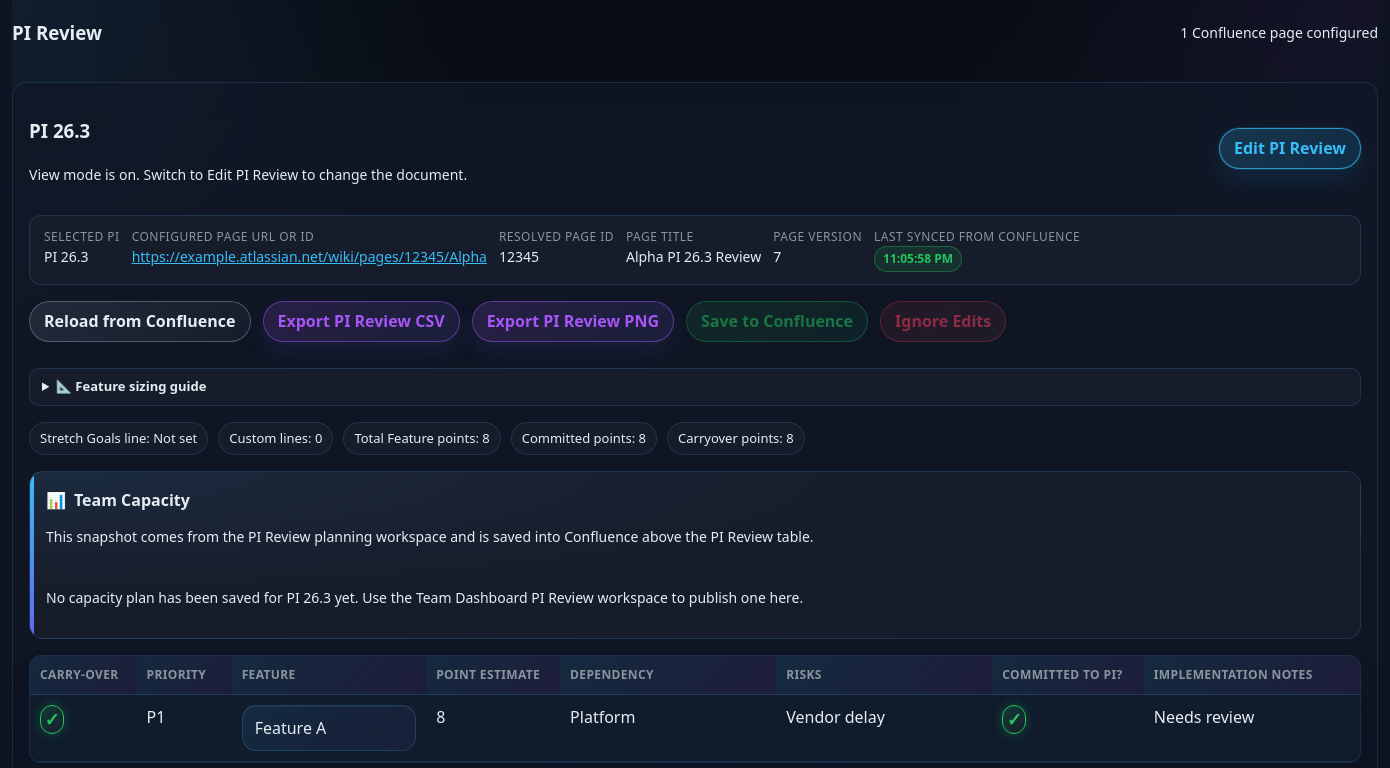
Test: PiReviewTab › pulls Features into the table for the panel team, PI, and roster Product Owner
The image size is (1390, 768).
Click the button "Edit PI Review" at point(1290, 149), box [1219,128,1361,169]
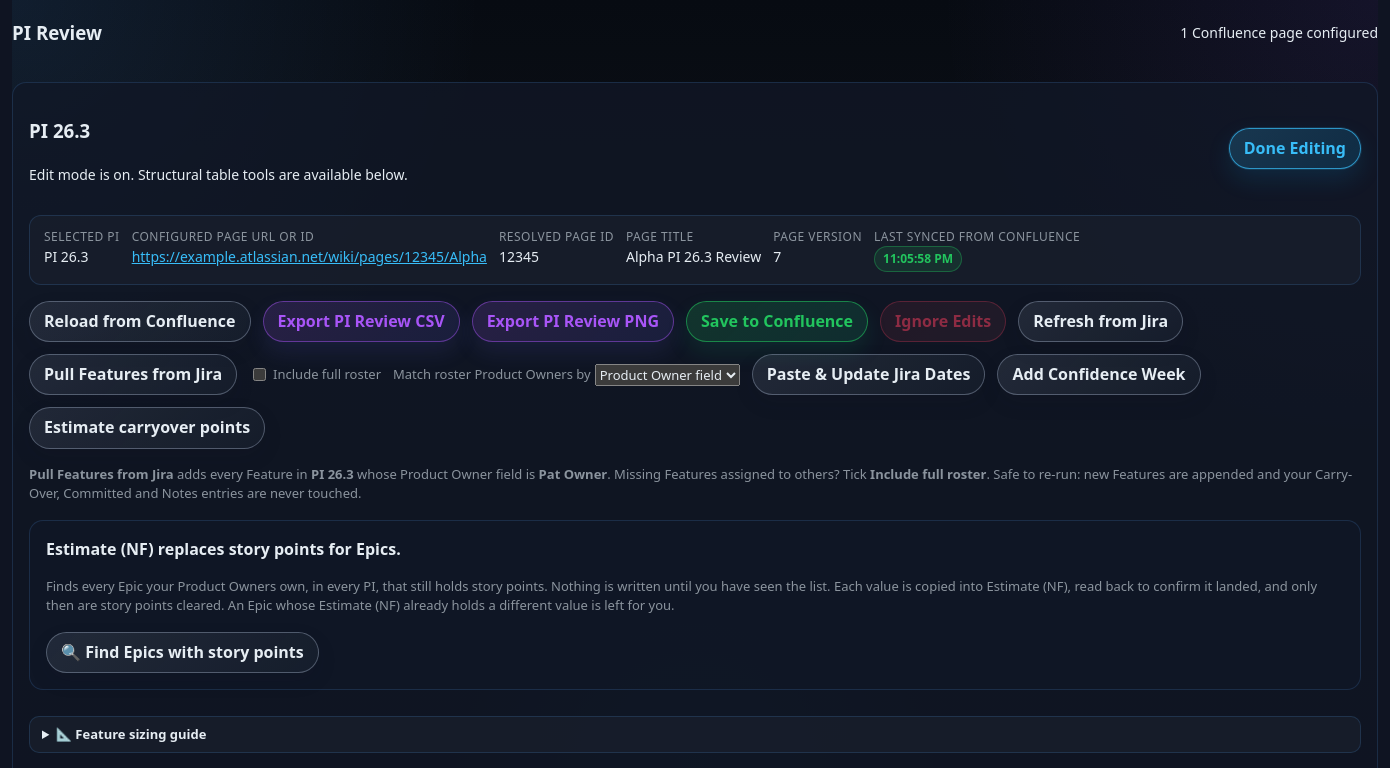
Click the button "Pull Features from Jira" at point(133, 375), box [29,354,237,395]
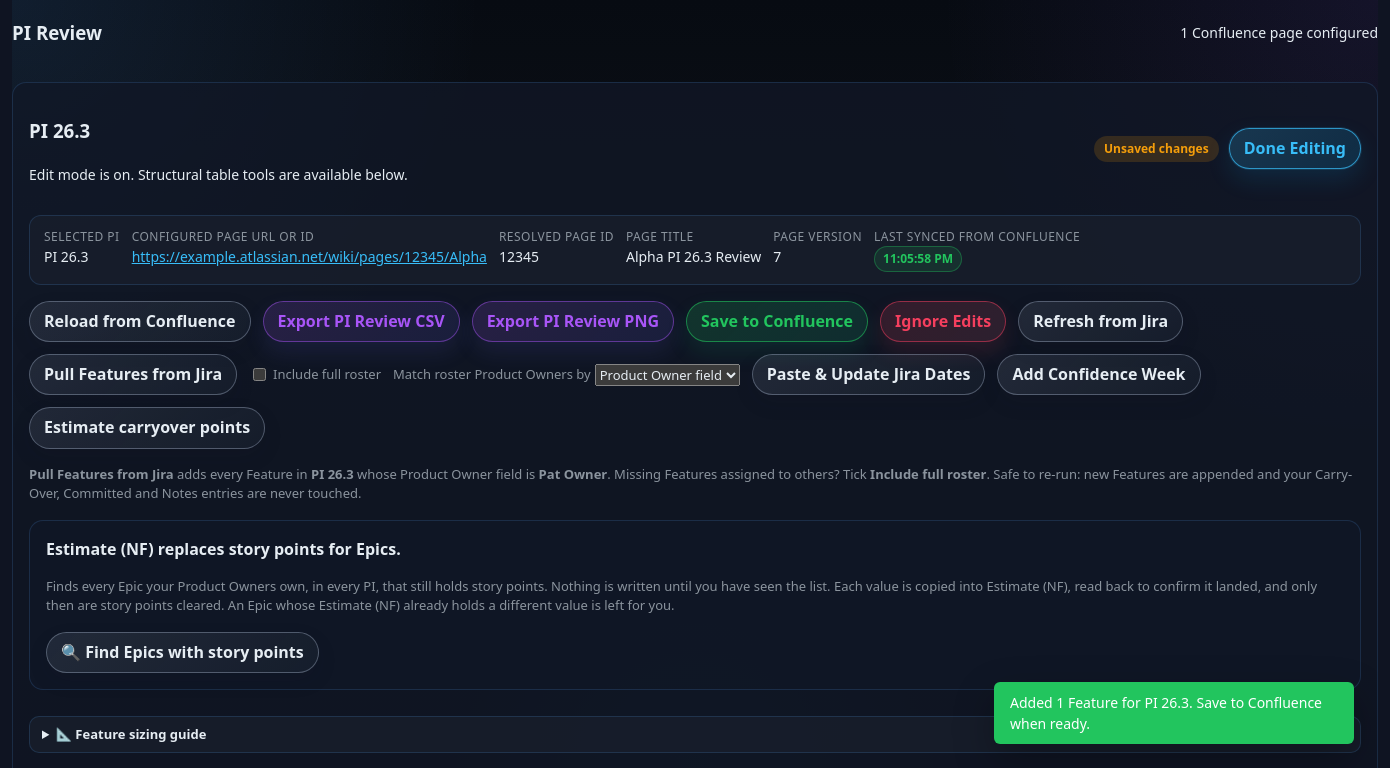
Check: the text "Added 1 Feature for PI 26.3. Save to Confluence when ready." is shown, box [994,682,1354,744]
